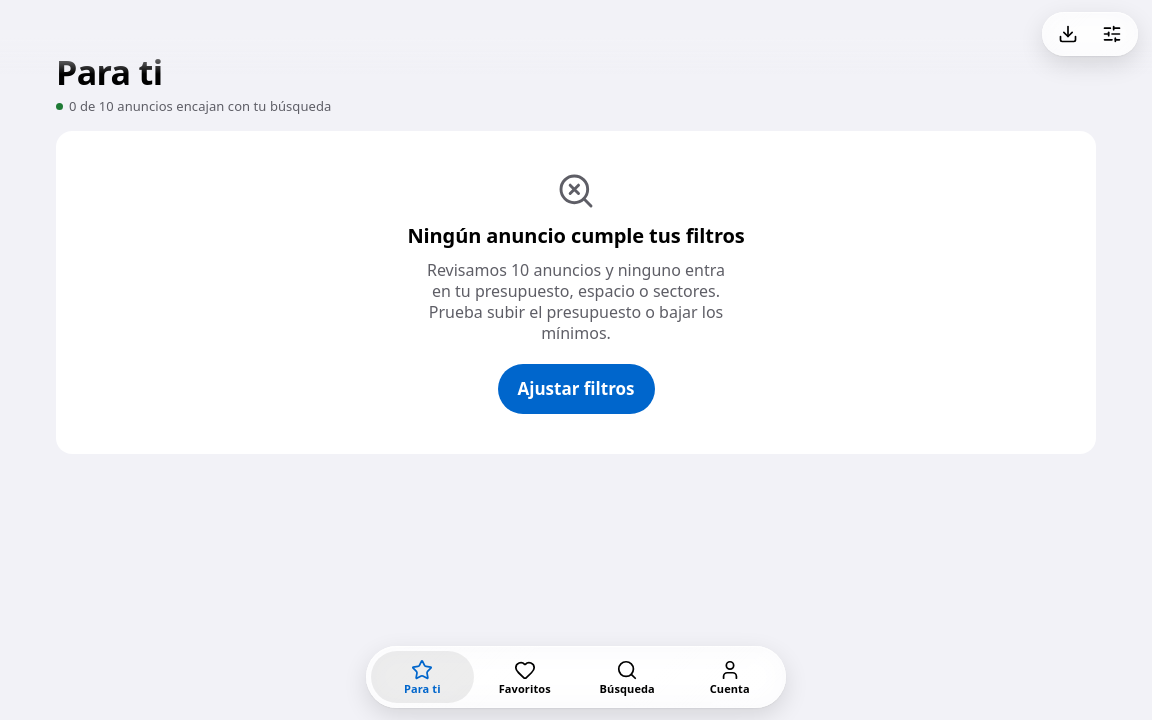
it: MatchesPage › explains how to add the app on an iPhone
Click the button named "Instalar depazo" at (1068, 34), box [1046,12,1090,56]
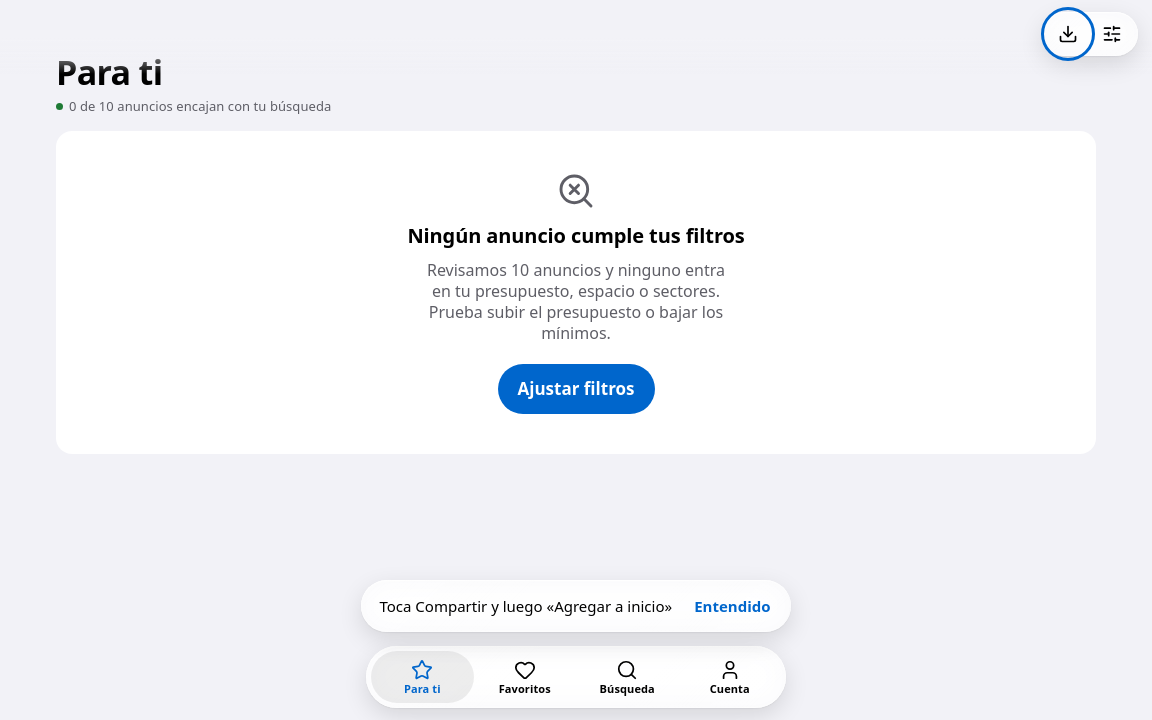
Expected: the message shows "Agregar a inicio", [380,596,672,616]
Click the button "Entendido" at (732, 606), box [680,584,784,628]
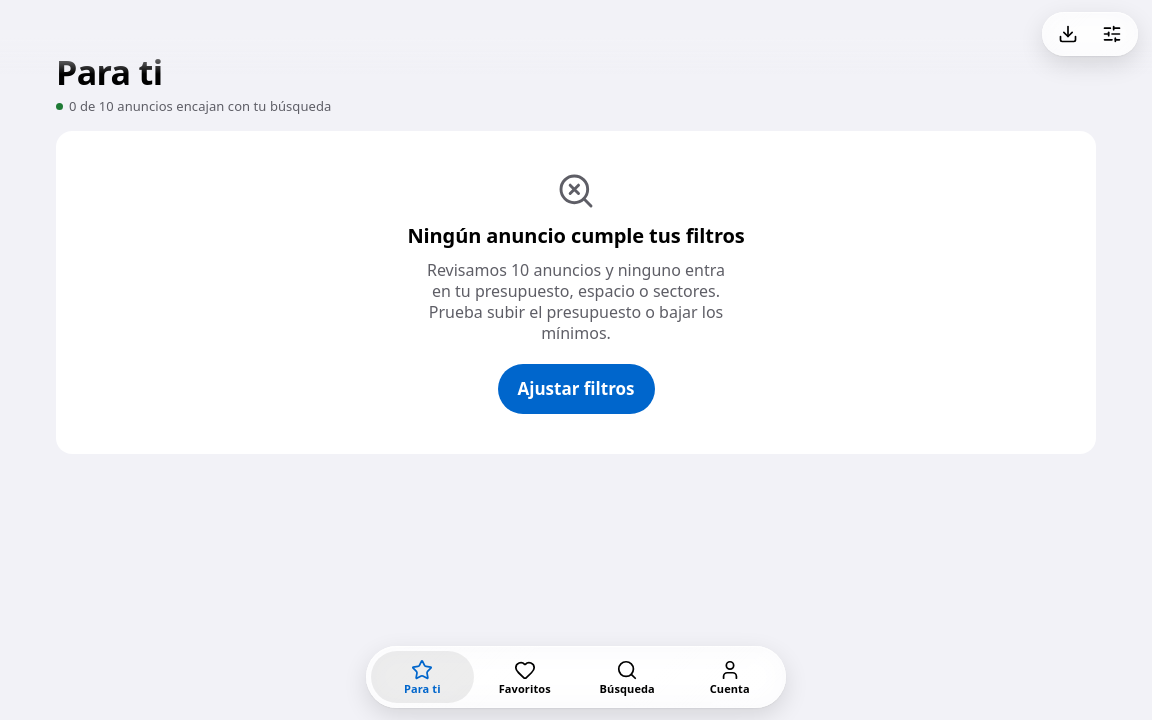
Expected: the text "Agregar a inicio" is gone
